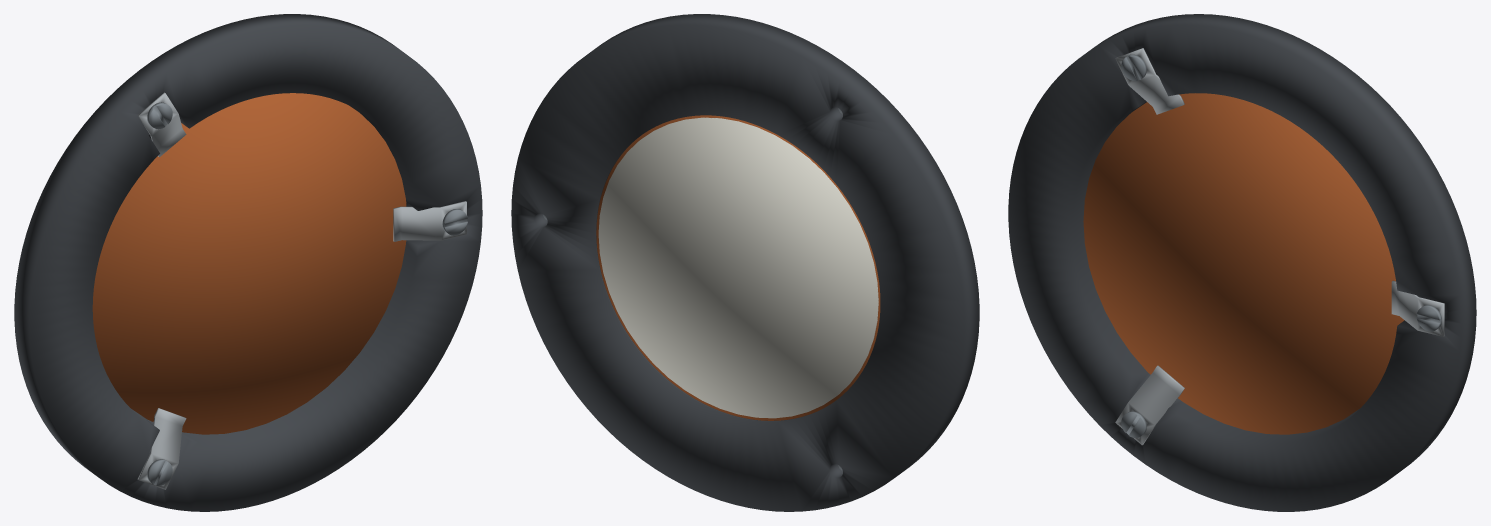
File: witness_white.glb
3 renders of one model, left to right at view 1: azimuth 30°, elevation 25°; view 2: azimuth 150°, elevation 25°; view 3: azimuth 330°, elevation 25°, orthographic.
Parts seen in each view (by area): view 1: annular_carrier, copper_witness, spring_clip_0, spring_clip_240, spring_clip_120, retainer_screw_120, retainer_screw_240, retainer_screw_0; view 2: annular_carrier, paint_coat_1, copper_witness; view 3: annular_carrier, copper_witness, spring_clip_240, spring_clip_120, spring_clip_0, retainer_screw_120, retainer_screw_240, retainer_screw_0.
Boxes of the visible parts, x1,y1,x2,y2 form: annular_carrier: (14,14,482,511); copper_witness: (92,93,406,434); spring_clip_0: (393,201,466,241); spring_clip_240: (137,408,186,489); spring_clip_120: (137,92,186,157); retainer_screw_120: (147,102,172,129); retainer_screw_240: (147,459,172,485); retainer_screw_0: (442,209,467,235); annular_carrier: (511,14,979,511); paint_coat_1: (598,118,878,418); copper_witness: (596,115,880,420); annular_carrier: (1008,14,1476,511); copper_witness: (1083,93,1404,434); spring_clip_240: (1115,365,1184,445); spring_clip_120: (1115,48,1184,114); spring_clip_0: (1391,280,1444,336); retainer_screw_120: (1121,54,1146,81); retainer_screw_240: (1121,411,1146,437); retainer_screw_0: (1416,305,1441,331).
Size of the model in its own units: 0.035 by 0.035 by 0.00248.
